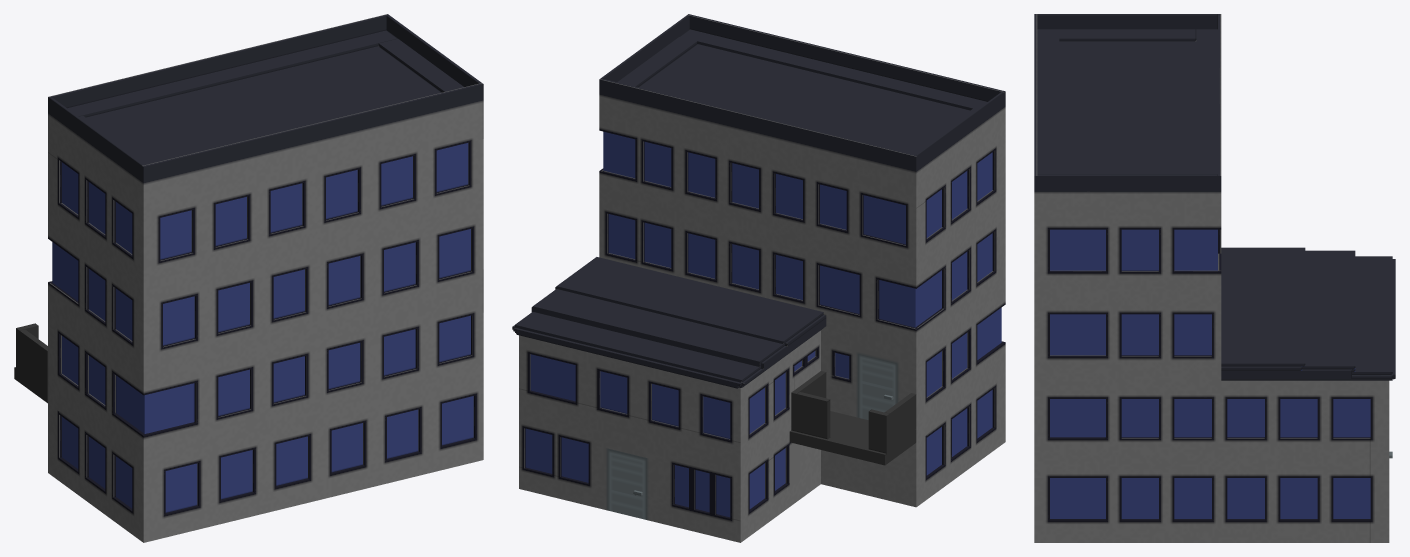
The model's file is dom_m_05.dae.
The picture shows the model from 3 angles, left to right: view 1: azimuth 30°, elevation 25°; view 2: azimuth 150°, elevation 25°; view 3: azimuth 270°, elevation 25°; orthographic projection. The views are drawn at different scales.
Parts seen in each view (by area): view 1: Content; view 2: Content; view 3: Content.
Part boxes in pixels (bbox=[...]): Content: bbox=[14, 14, 483, 542]; Content: bbox=[512, 14, 1005, 542]; Content: bbox=[1034, 14, 1395, 542].
Size of the model in its own units: 125 by 130 by 116.
Materials: 1 (1 with a texture image).
